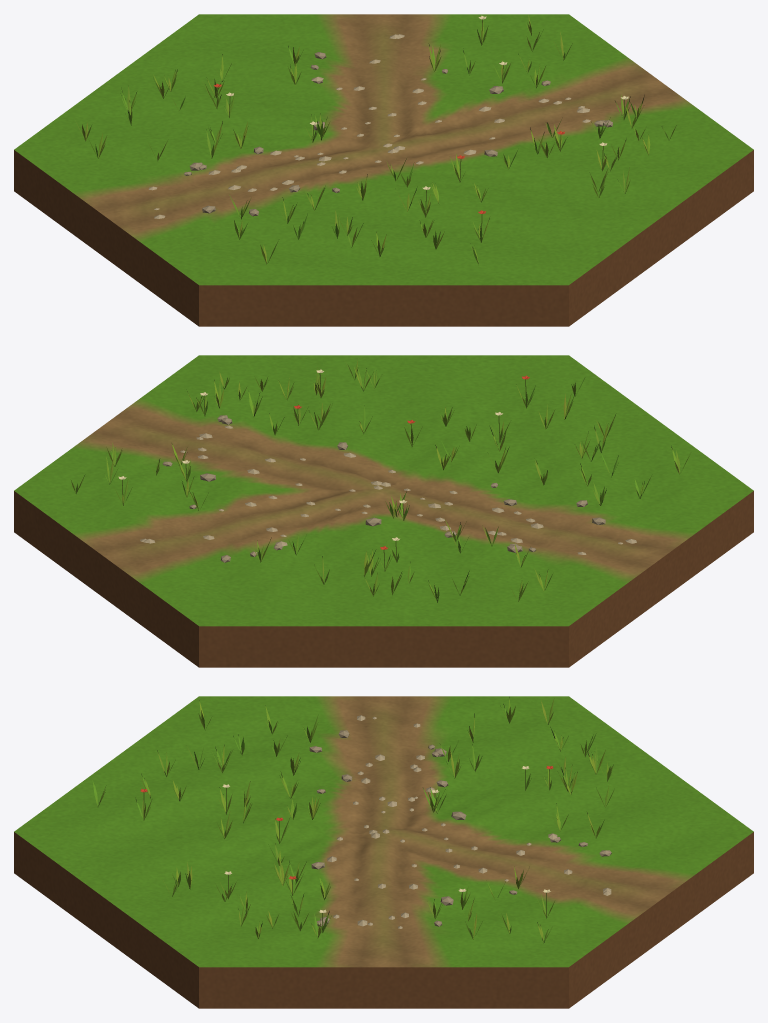
The model's file is SM_CaminoNatural_Cruce_Detalle_LOD0.fbx.
3 renders of one model, top to bottom at view 1: azimuth 30°, elevation 25°; view 2: azimuth 150°, elevation 25°; view 3: azimuth 270°, elevation 25°, orthographic.
Parts seen in each view (by area): view 1: SM_CaminoNatural_Cruce_Detalle_LOD0; view 2: SM_CaminoNatural_Cruce_Detalle_LOD0; view 3: SM_CaminoNatural_Cruce_Detalle_LOD0.
Part boxes in pixels (x1,y1,x2,y2): SM_CaminoNatural_Cruce_Detalle_LOD0: [14, 14, 753, 326]; SM_CaminoNatural_Cruce_Detalle_LOD0: [14, 355, 753, 667]; SM_CaminoNatural_Cruce_Detalle_LOD0: [14, 696, 753, 1008].
Size of the model in its own units: 1.68 by 0.2091 by 1.94.
1 material, 1 textured.
